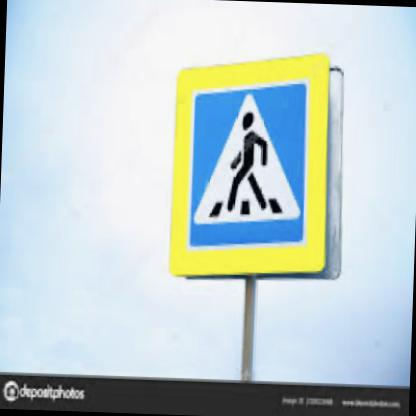crosswalk: (186, 76, 311, 251)
